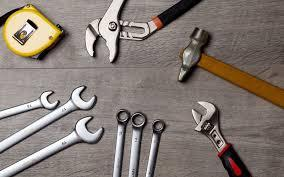wrench: (0, 83, 97, 152), (0, 114, 105, 176), (189, 98, 254, 176), (0, 88, 60, 123), (129, 110, 148, 176), (111, 107, 129, 176), (145, 118, 165, 176)
